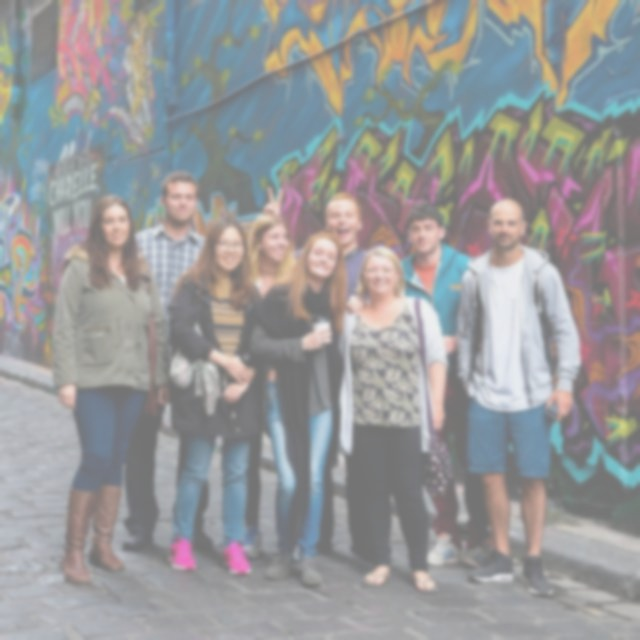pessoa: (453, 198, 582, 596), (50, 194, 174, 585), (320, 244, 450, 592), (248, 229, 368, 587), (396, 204, 496, 572), (121, 171, 216, 553), (166, 214, 264, 577), (242, 212, 297, 560), (264, 184, 374, 304)
